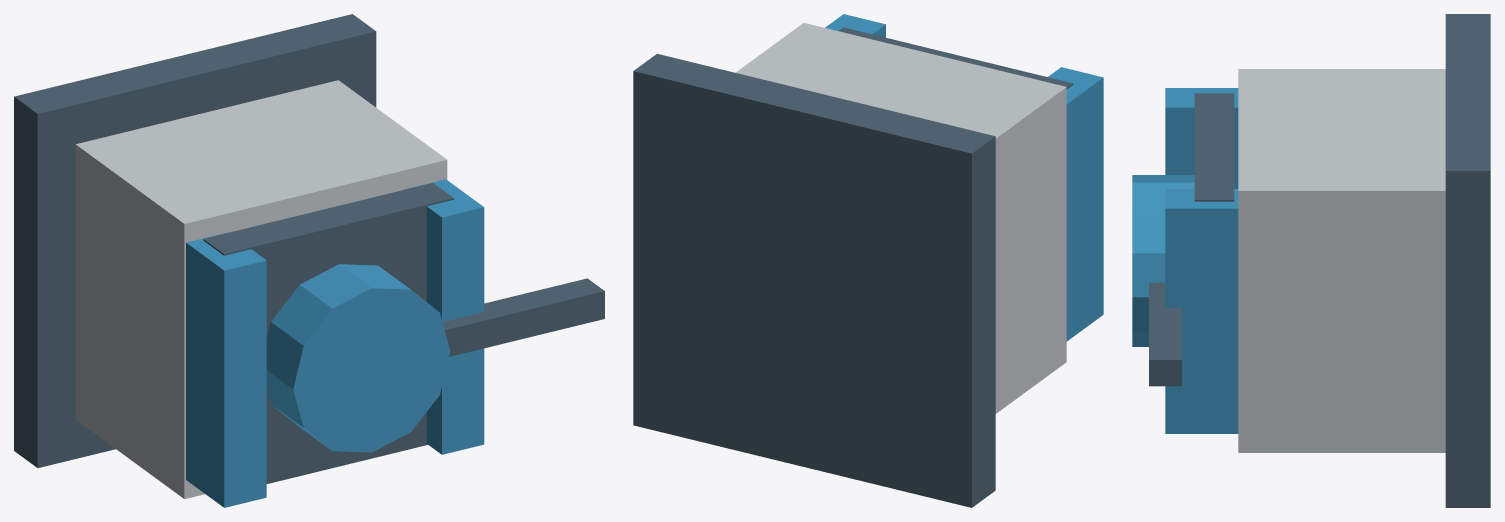
Rendered from b_defense.glb.
3 views of the same model, side by side, from view 1: azimuth 30°, elevation 25°; view 2: azimuth 150°, elevation 25°; view 3: azimuth 270°, elevation 25° (orthographic). The views are drawn at different scales.
Visible parts, largest first — view 1: main_structure, foundation, defense_turret, support_-0.8999999999999999, roof, support_0.8999999999999999, defense_barrel; view 2: foundation, main_structure, support_-0.8999999999999999, roof, support_0.8999999999999999; view 3: main_structure, foundation, support_0.8999999999999999, defense_turret, roof, support_-0.8999999999999999, defense_barrel.
Part boxes in pixels (<box>): main_structure: <box>75,80,447,498</box>; foundation: <box>14,14,376,467</box>; defense_turret: <box>266,264,450,452</box>; support_-0.8999999999999999: <box>186,232,266,507</box>; roof: <box>203,183,453,483</box>; support_0.8999999999999999: <box>403,179,484,454</box>; defense_barrel: <box>442,278,604,356</box>; foundation: <box>633,53,995,507</box>; main_structure: <box>735,23,1066,413</box>; support_-0.8999999999999999: <box>1048,67,1103,341</box>; roof: <box>838,27,1073,89</box>; support_0.8999999999999999: <box>825,14,885,37</box>; main_structure: <box>1238,69,1445,452</box>; foundation: <box>1445,14,1490,507</box>; support_0.8999999999999999: <box>1165,189,1238,433</box>; defense_turret: <box>1132,175,1194,346</box>; roof: <box>1194,93,1234,201</box>; support_-0.8999999999999999: <box>1165,88,1238,188</box>; defense_barrel: <box>1149,282,1181,386</box>.
Bounding box in the file's own units: 3.4 × 2.8 × 2.7.
